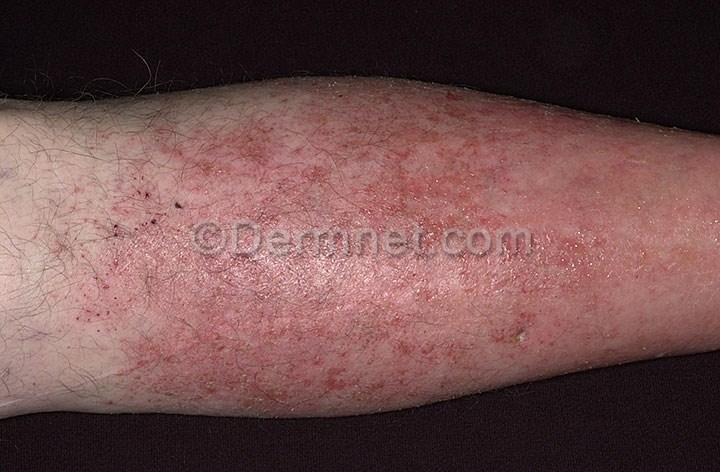Eczema: (22, 202, 132, 335), (224, 327, 333, 423), (206, 236, 314, 329), (189, 132, 277, 241), (357, 157, 464, 242), (521, 174, 615, 270), (327, 258, 438, 339), (427, 242, 509, 347), (518, 268, 615, 356), (131, 226, 206, 337), (287, 175, 376, 266), (580, 121, 660, 209), (100, 153, 195, 226), (608, 201, 670, 302), (270, 106, 352, 181), (344, 85, 425, 156), (128, 341, 215, 407), (657, 139, 718, 226), (431, 92, 504, 164), (505, 102, 574, 177), (388, 331, 459, 399), (458, 168, 514, 248), (335, 336, 395, 410), (623, 291, 686, 351), (676, 221, 717, 307), (132, 107, 195, 159), (467, 338, 525, 390), (222, 91, 280, 137), (283, 72, 350, 108), (95, 352, 133, 412), (524, 345, 585, 380), (678, 296, 720, 343)
